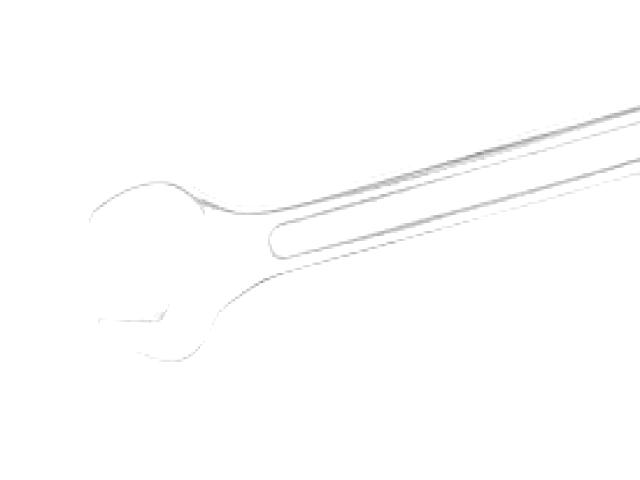Wrench: (90, 106, 640, 362)
